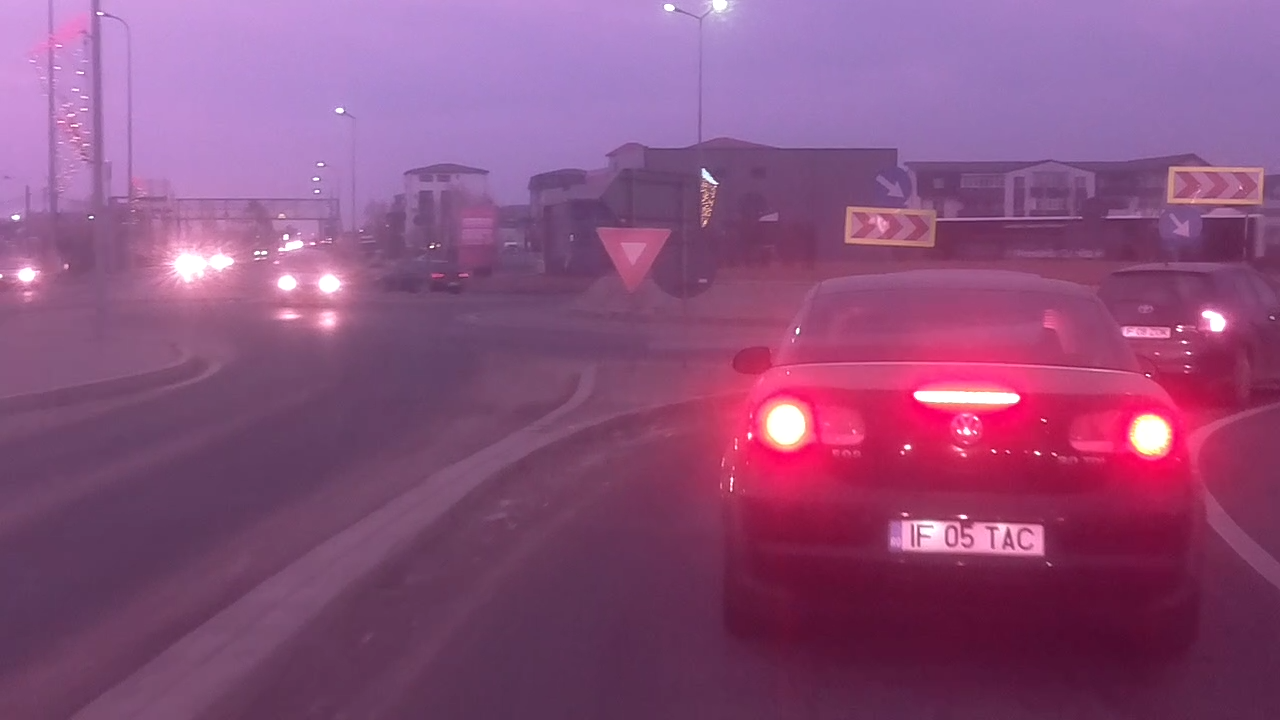license-plate: (882, 513, 1049, 561), (1120, 324, 1174, 341)
